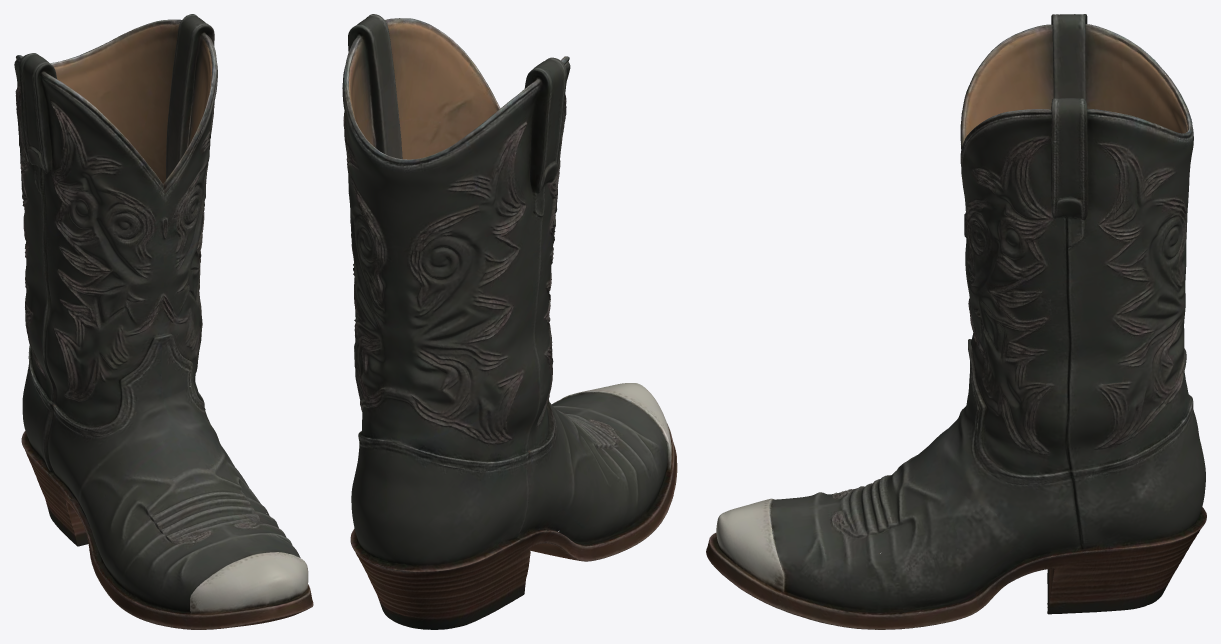
Rendered from shoe.glb.
3 renders of one model, left to right at view 1: azimuth 30°, elevation 25°; view 2: azimuth 150°, elevation 25°; view 3: azimuth 270°, elevation 25°, orthographic. The views are drawn at different scales.
Parts seen in each view (by area): view 1: tripo_node_7a418018-b158-4555-ba3a-c62bd9b023b9; view 2: tripo_node_7a418018-b158-4555-ba3a-c62bd9b023b9; view 3: tripo_node_7a418018-b158-4555-ba3a-c62bd9b023b9.
Part boxes in pixels (x1,y1,x2,y2): tripo_node_7a418018-b158-4555-ba3a-c62bd9b023b9: [14, 14, 313, 629]; tripo_node_7a418018-b158-4555-ba3a-c62bd9b023b9: [342, 14, 677, 629]; tripo_node_7a418018-b158-4555-ba3a-c62bd9b023b9: [706, 14, 1206, 629].
Bounding box in the file's own units: 0.3838 × 0.9992 × 0.8511.
1 material, 1 textured.
